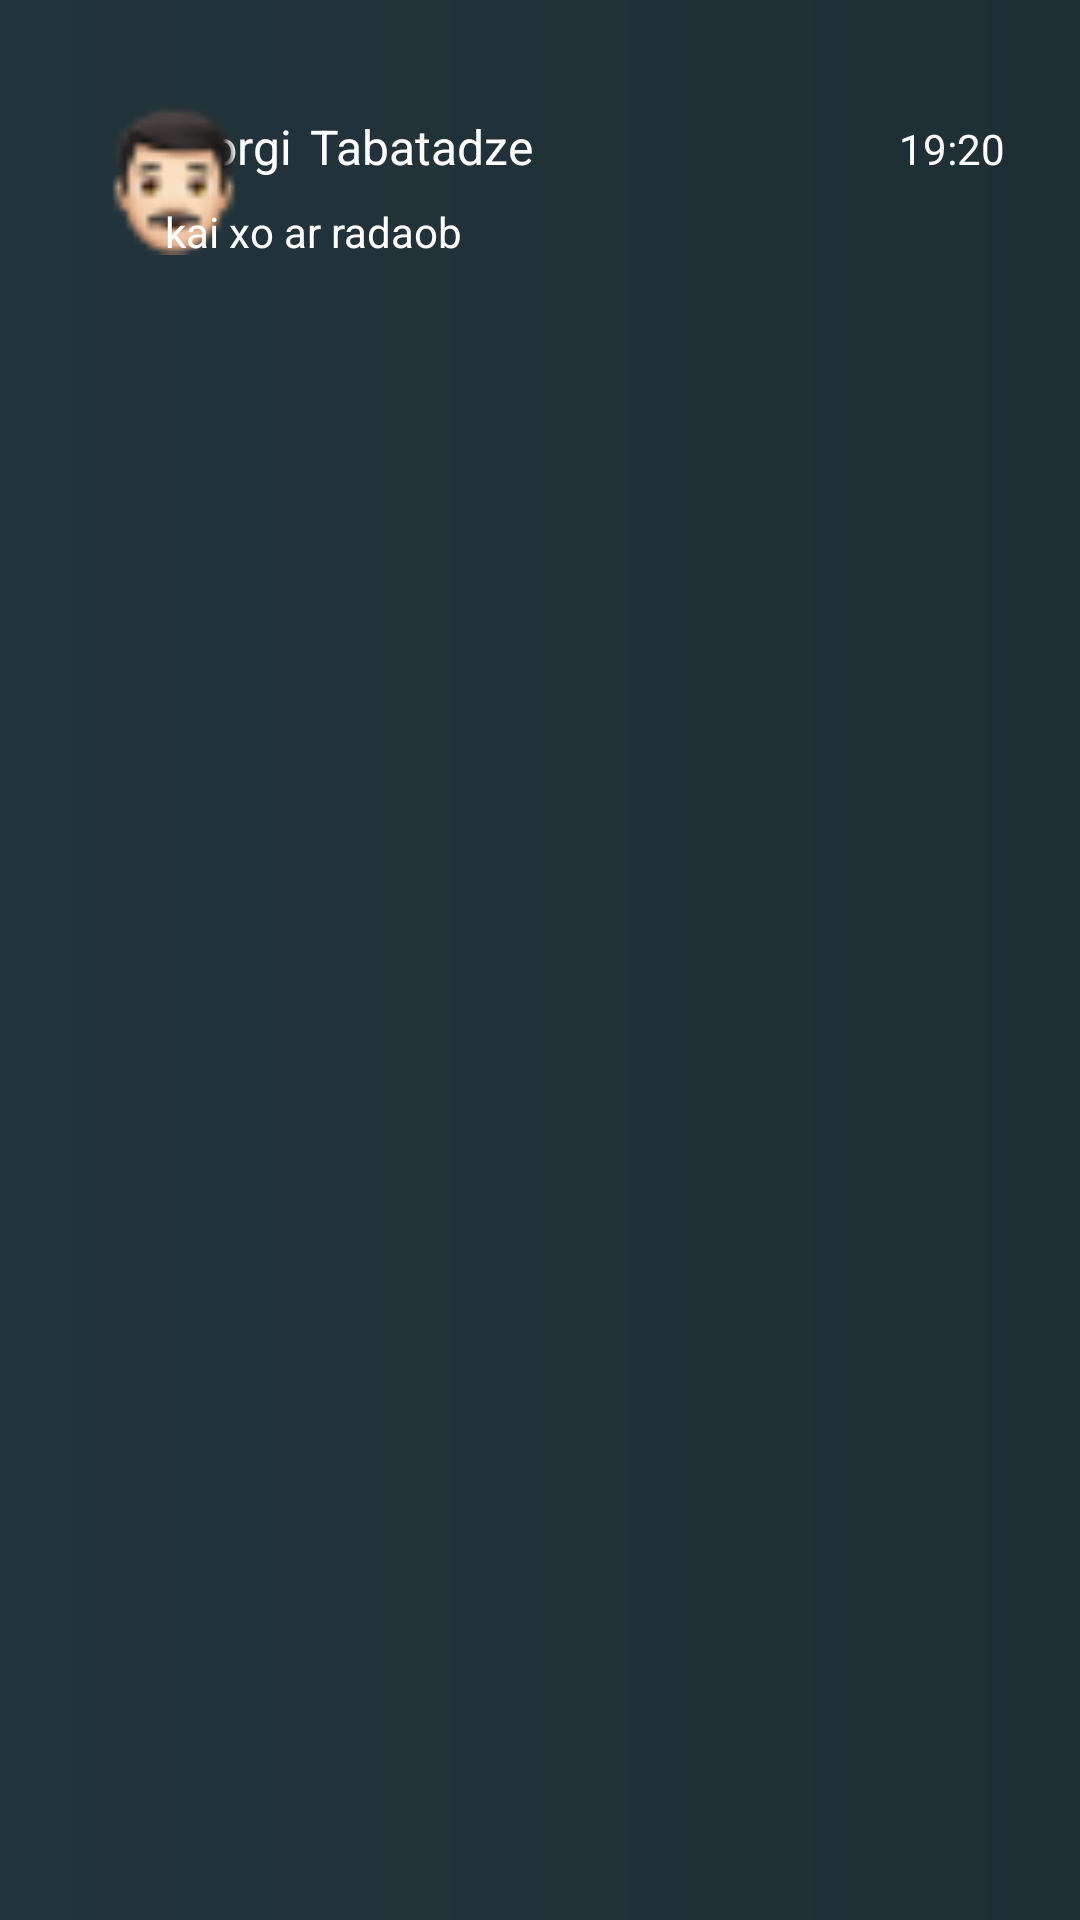

Named icons in this screenshot (1080*1920) and their centers, point (x, y):
head: point (181, 183)
